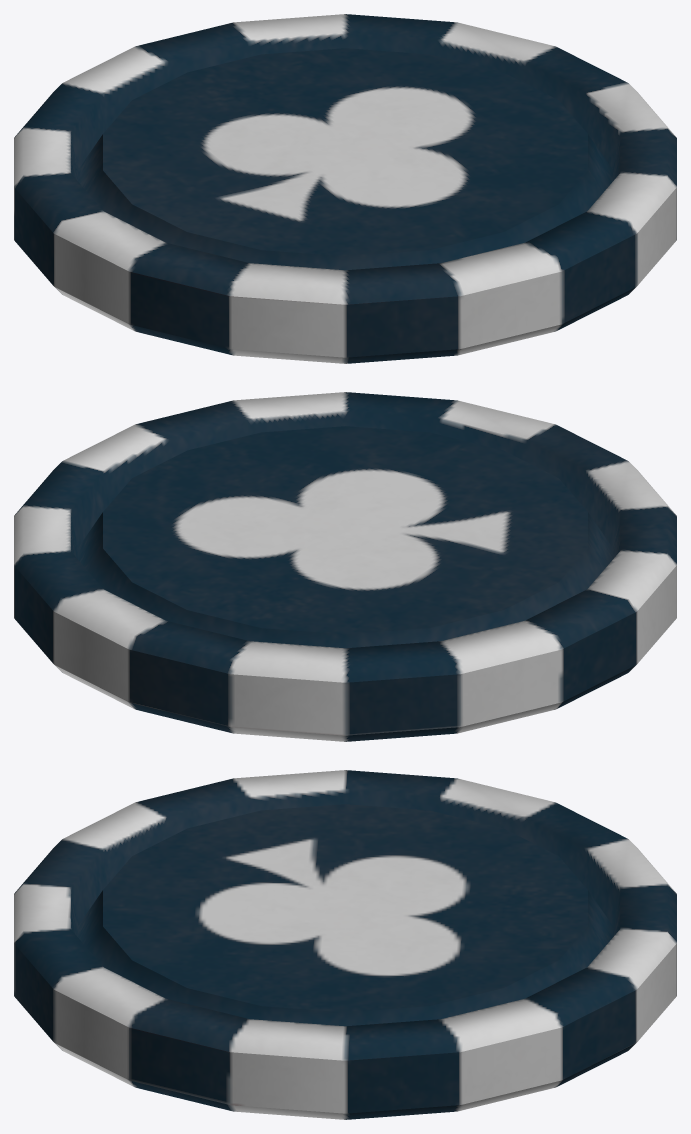
Rendered from Poker_Coin_Platform.fbx.
The picture shows the model from 3 angles, top to bottom: view 1: azimuth 30°, elevation 25°; view 2: azimuth 150°, elevation 25°; view 3: azimuth 270°, elevation 25°; orthographic projection.
Parts seen in each view (by area): view 1: Poker_Coin_Platform_Green; view 2: Poker_Coin_Platform_Green; view 3: Poker_Coin_Platform_Green.
Boxes of the visible parts, x1,y1,x2,y2 form: Poker_Coin_Platform_Green: (14, 14, 676, 363); Poker_Coin_Platform_Green: (14, 392, 676, 741); Poker_Coin_Platform_Green: (14, 770, 676, 1119).
Size of the model in its own units: 10.57 by 1.27 by 10.41.
